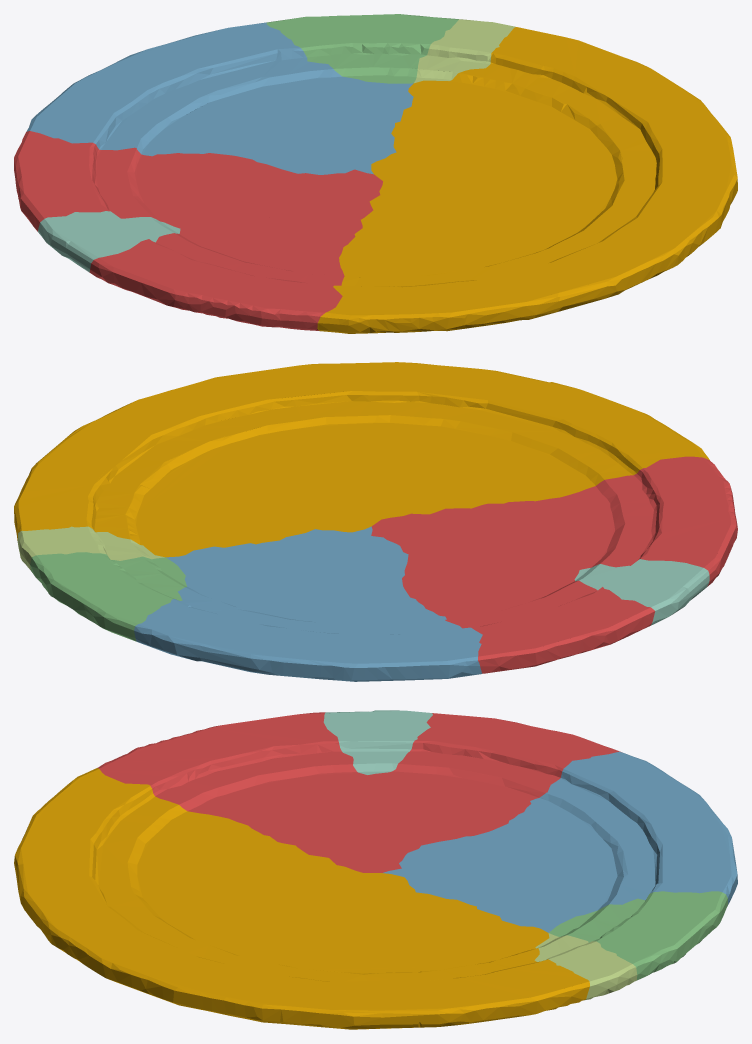
Rendered from fractured_78_6pcs.glb.
The picture shows the model from 3 angles, top to bottom: view 1: azimuth 30°, elevation 25°; view 2: azimuth 150°, elevation 25°; view 3: azimuth 270°, elevation 25°; orthographic projection.
Parts seen in each view (by area): view 1: piece_0.obj, piece_1.obj, piece_2.obj, piece_3.obj, piece_4.obj, piece_5.obj; view 2: piece_0.obj, piece_1.obj, piece_2.obj, piece_3.obj, piece_4.obj, piece_5.obj; view 3: piece_0.obj, piece_1.obj, piece_2.obj, piece_3.obj, piece_4.obj, piece_5.obj.
Boxes of the visible parts, x1,y1,x2,y2 form: piece_0.obj: (317,27,737,333); piece_1.obj: (14,131,382,330); piece_2.obj: (26,22,413,174); piece_3.obj: (266,14,459,83); piece_4.obj: (38,211,180,272); piece_5.obj: (414,19,515,83); piece_0.obj: (14,362,709,557); piece_1.obj: (371,456,737,673); piece_2.obj: (134,526,482,681); piece_3.obj: (30,552,186,641); piece_4.obj: (574,559,709,625); piece_5.obj: (17,526,164,570); piece_0.obj: (14,768,589,1029); piece_1.obj: (97,712,621,872); piece_2.obj: (383,751,737,932); piece_3.obj: (549,891,727,980); piece_4.obj: (323,710,432,774); piece_5.obj: (534,933,637,1000).
Size of the model in its own units: 1 by 0.0277 by 0.9998.
